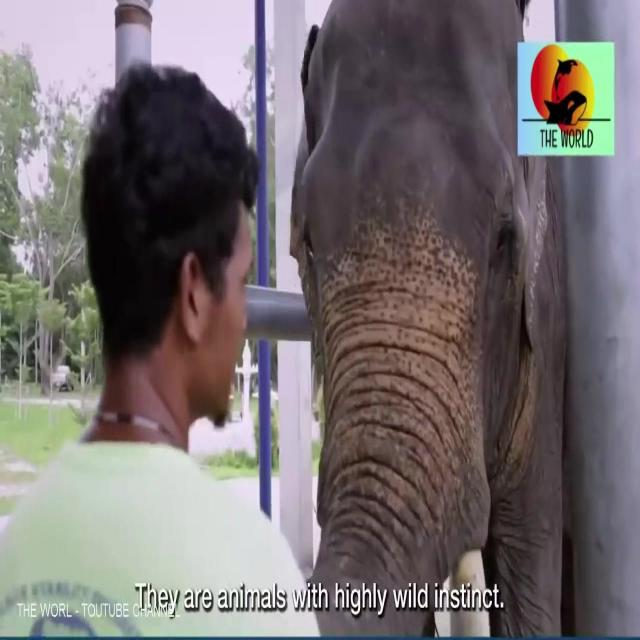Elephant: (297, 4, 524, 516)
